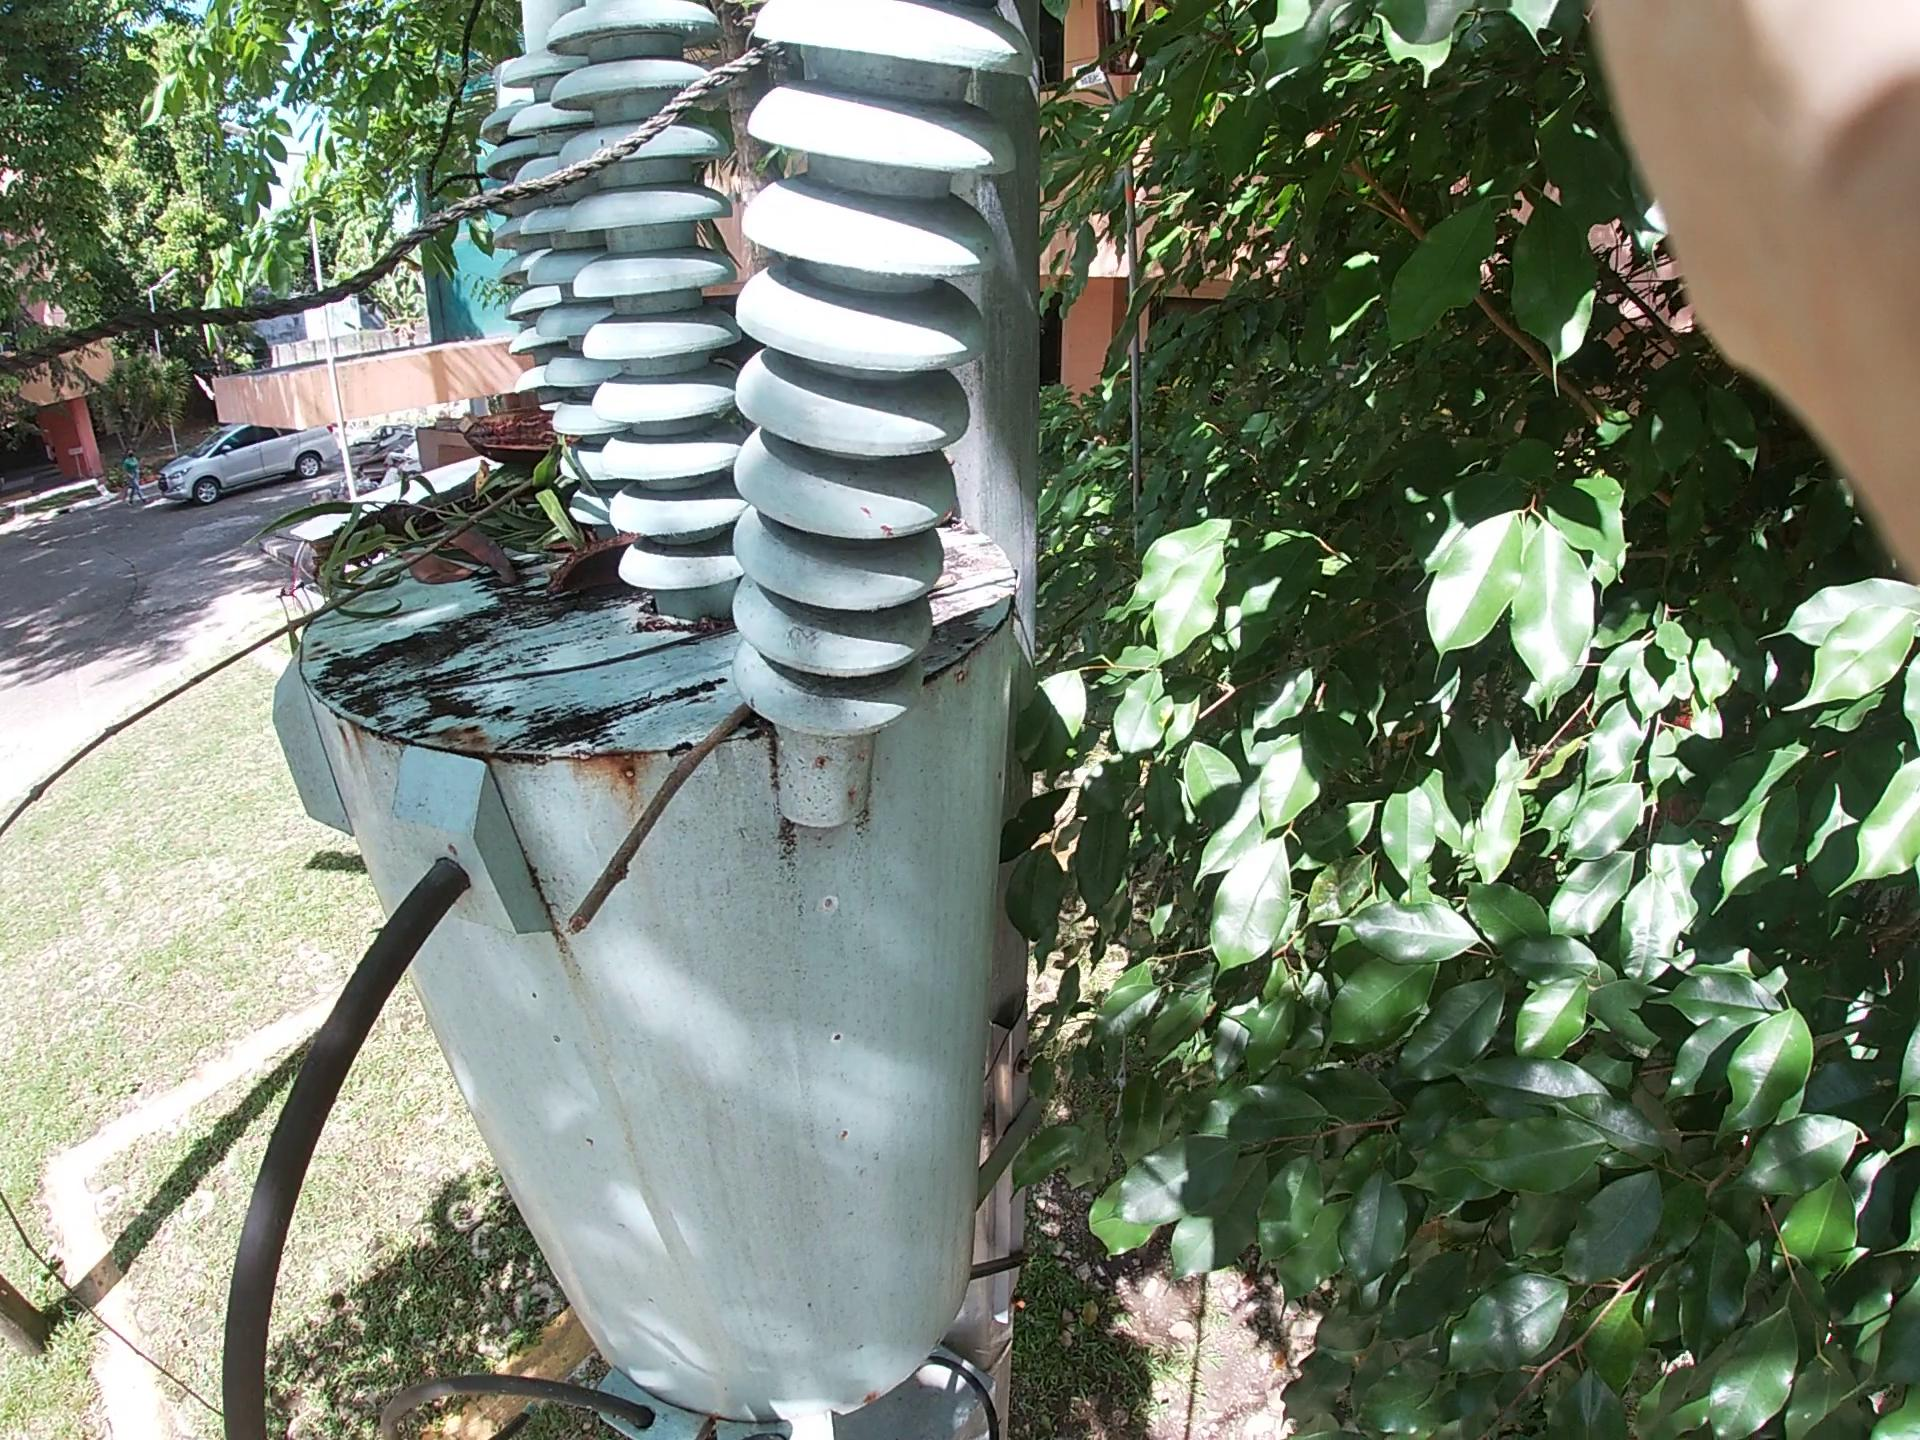branch with leaves: (290, 157, 1039, 646)
leaf: (392, 507, 584, 617)
tree branch: (57, 375, 745, 844), (562, 585, 872, 967)
